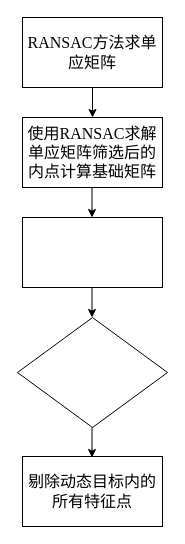
Some shapes in this 185 by 544 pixel diagram are drawn without their labels. The shapes that lost their labels are listed below. From the top down, each one's centre as x and y in pixels, then its label:
point 92,252: 通过基础矩阵计算动态目标内的外点数量
point 92,372: 动态目标内 外点数量 超过阈值
